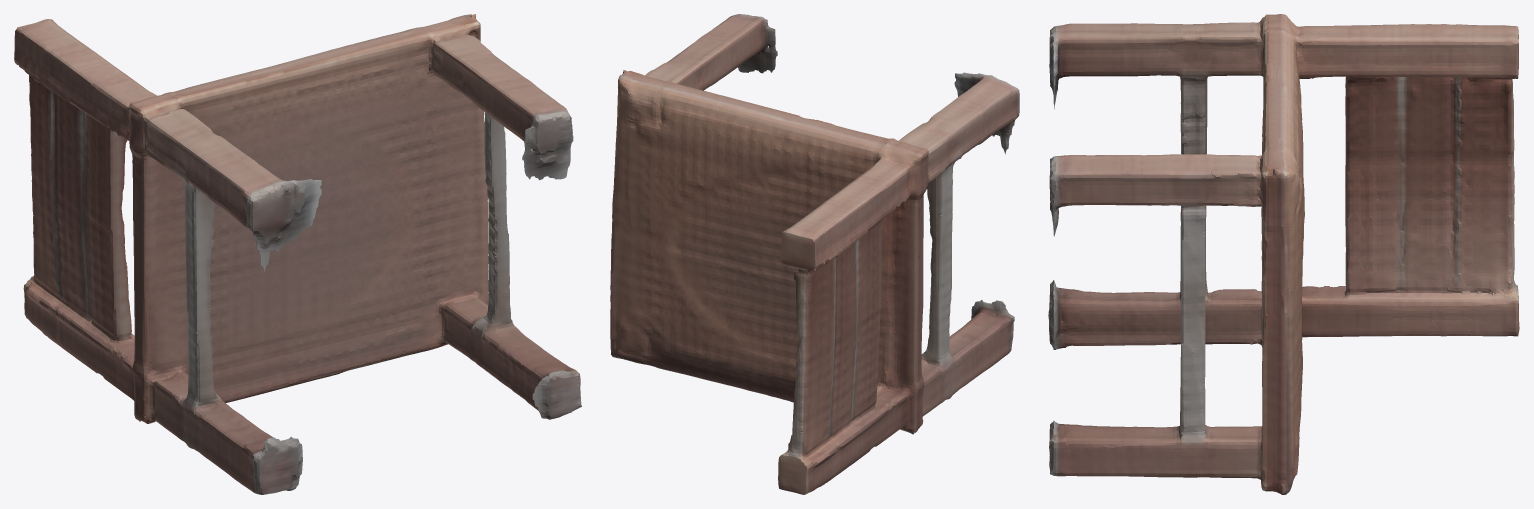
3 renders of one model, left to right at view 1: azimuth 30°, elevation 25°; view 2: azimuth 150°, elevation 25°; view 3: azimuth 270°, elevation 25°, orthographic. The views are drawn at different scales.
Parts seen in each view (by area): view 1: in_10536871.obj; view 2: in_10536871.obj; view 3: in_10536871.obj.
Boxes of the visible parts, bbox=[...] form: in_10536871.obj: bbox=[14, 14, 581, 494]; in_10536871.obj: bbox=[610, 14, 1019, 494]; in_10536871.obj: bbox=[1048, 14, 1519, 494].
Size of the model in its own units: 1.73 by 1.54 by 2.
